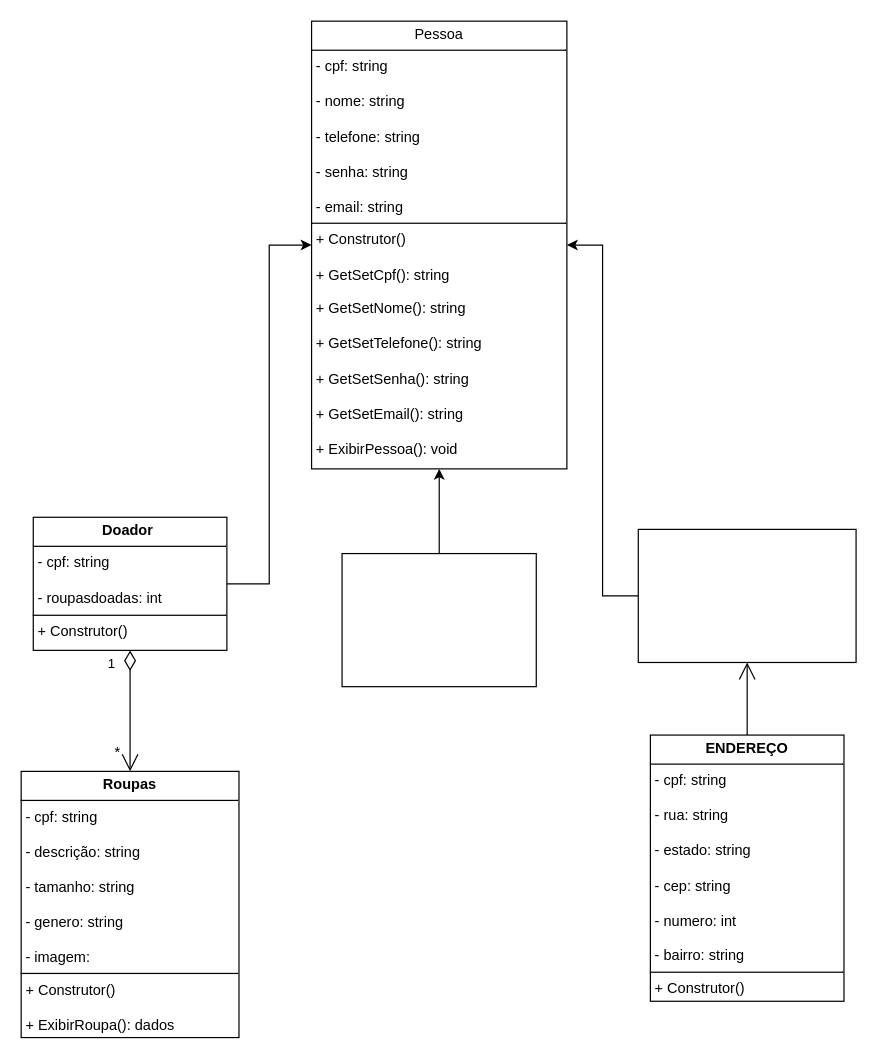
Some shapes in this 877 by 1059 pixel diagram are drawn without their labels. Each missing label, with the box of its shape:
ONG - Endereço: ENDEREÇO + Construtor() + ExibirEndereço(): ENDEREÇO: (637, 528, 856, 662)
Receptor - cpf: string - roupasrecebidas: int + Construtor(): (341, 552, 536, 687)
